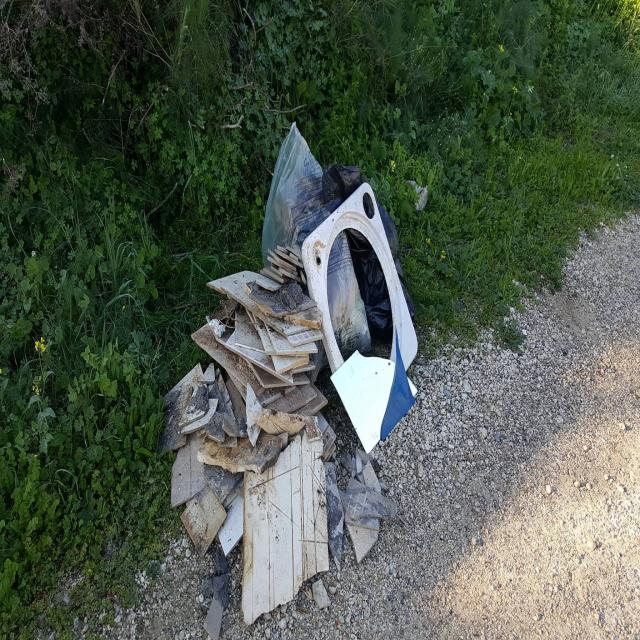Other litter: (156, 245, 331, 626), (300, 180, 422, 454)
Plastic bag - wrapper: (259, 120, 366, 264), (330, 230, 391, 356), (379, 206, 415, 326)
